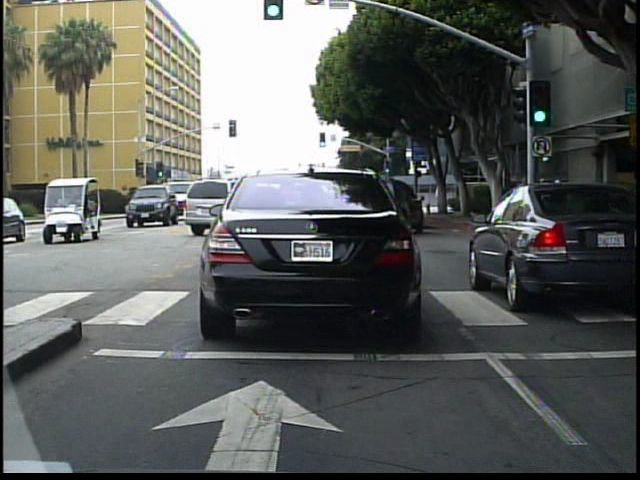person: (516, 174, 536, 228), (435, 185, 449, 214)
